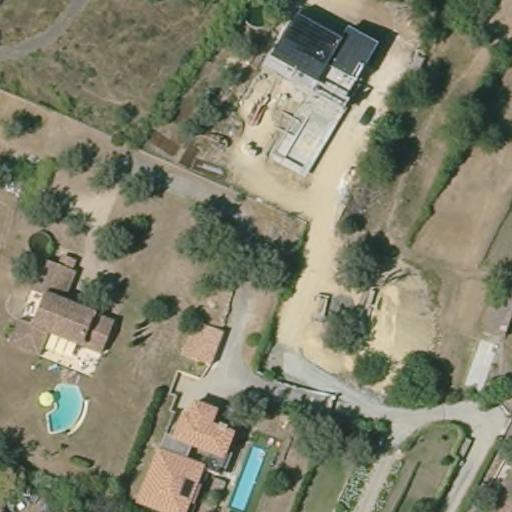pool: (39, 379, 91, 437), (229, 438, 266, 509)
